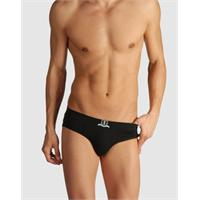mutande: (61, 105, 138, 156)
